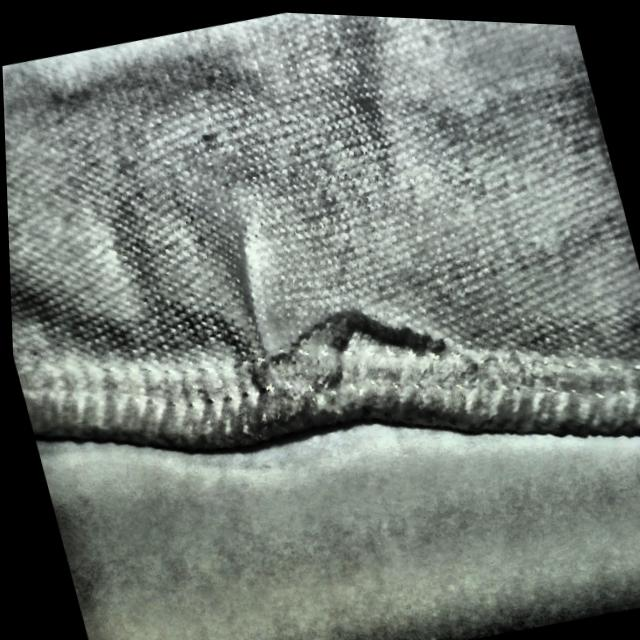seam: (185, 199, 464, 463)
